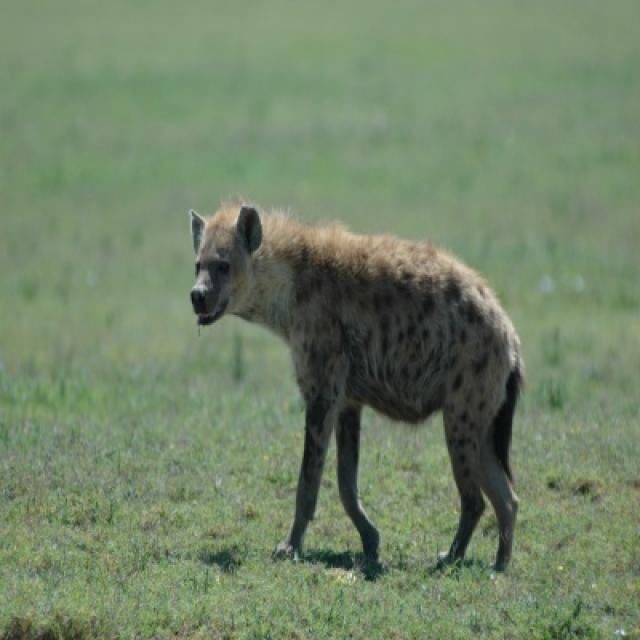hyena: (190, 205, 522, 570)
